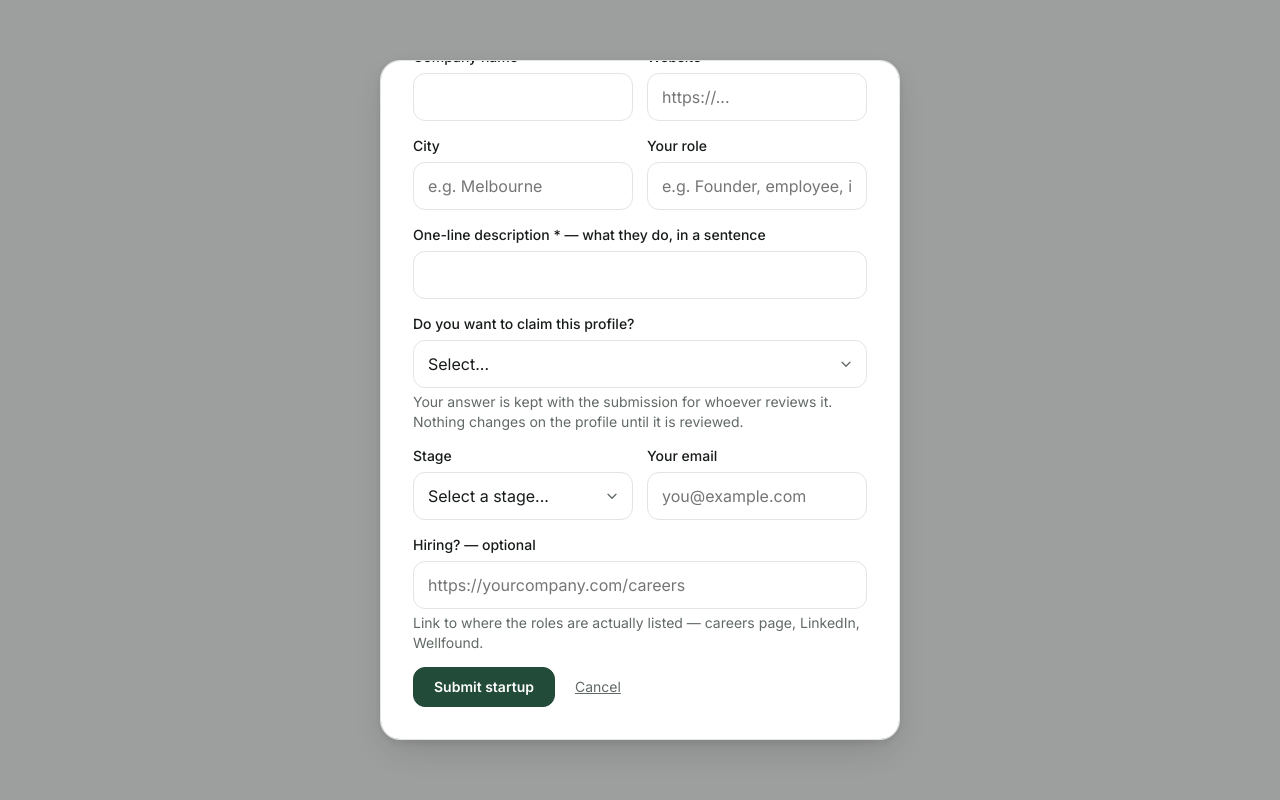
Test case: SubmitStartupForm › blocks submission and shows an error when name/description are empty
(page scrolled)
Click the button "Submit startup" at (484, 687), box [413, 667, 555, 707]
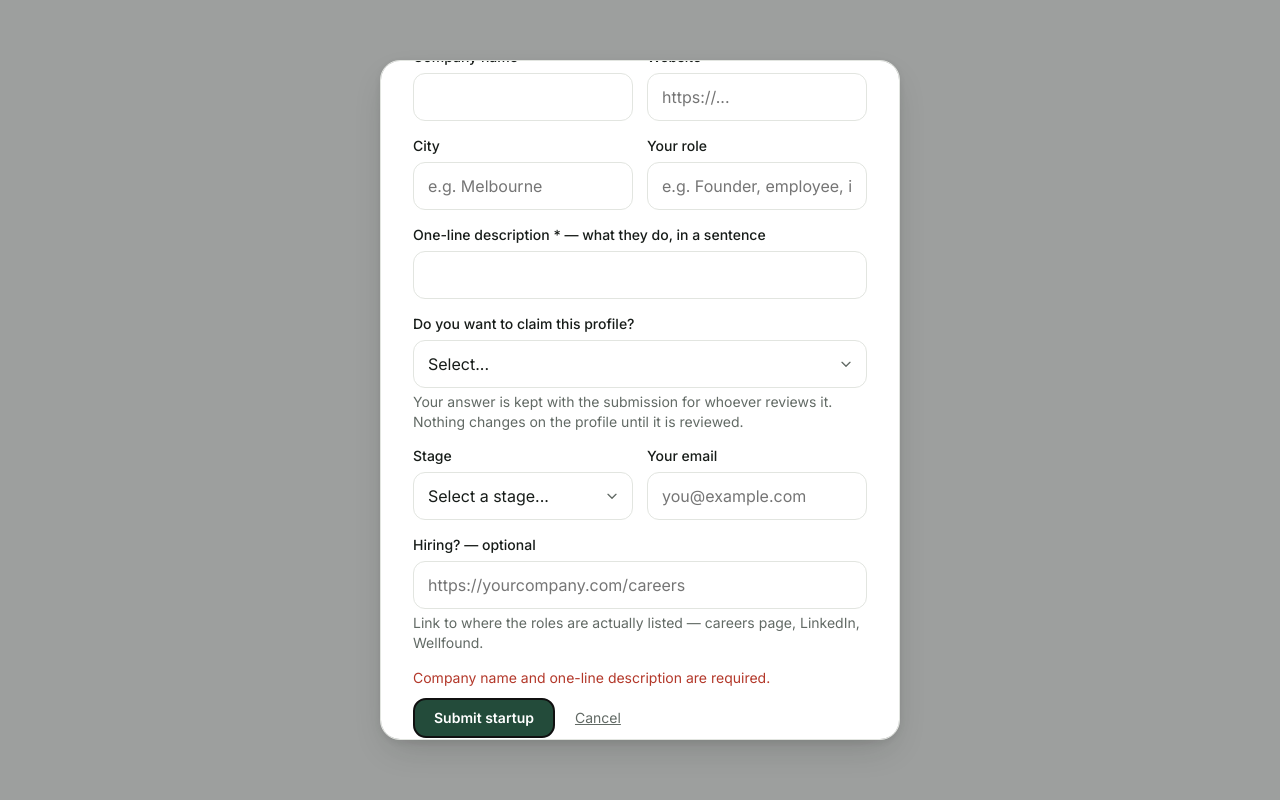
Check: the text "Company name and one-line description are required." is shown, box [413, 669, 770, 686]
